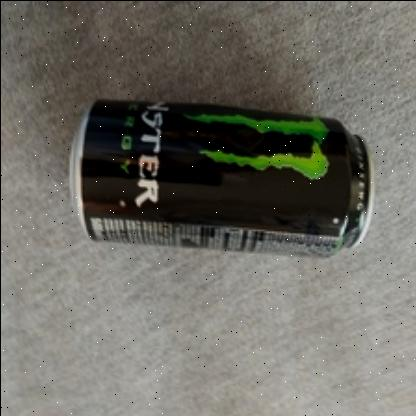Can: (71, 99, 373, 260)
